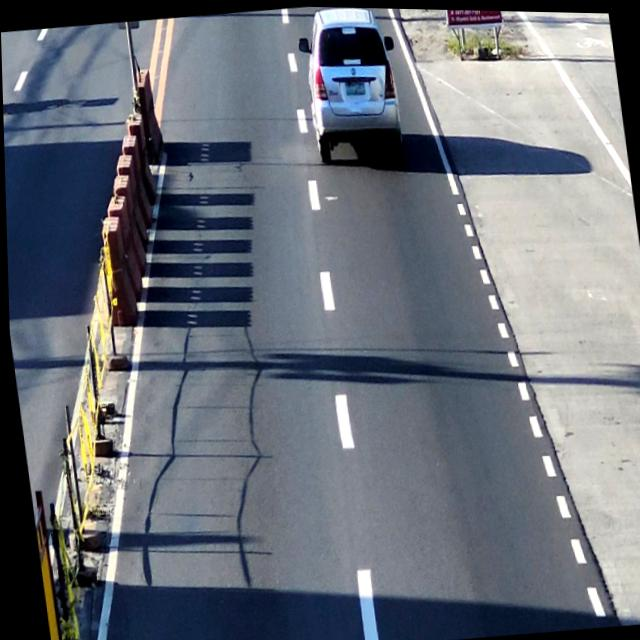Car: (301, 5, 405, 165)
License-Plate: (340, 75, 367, 95)
